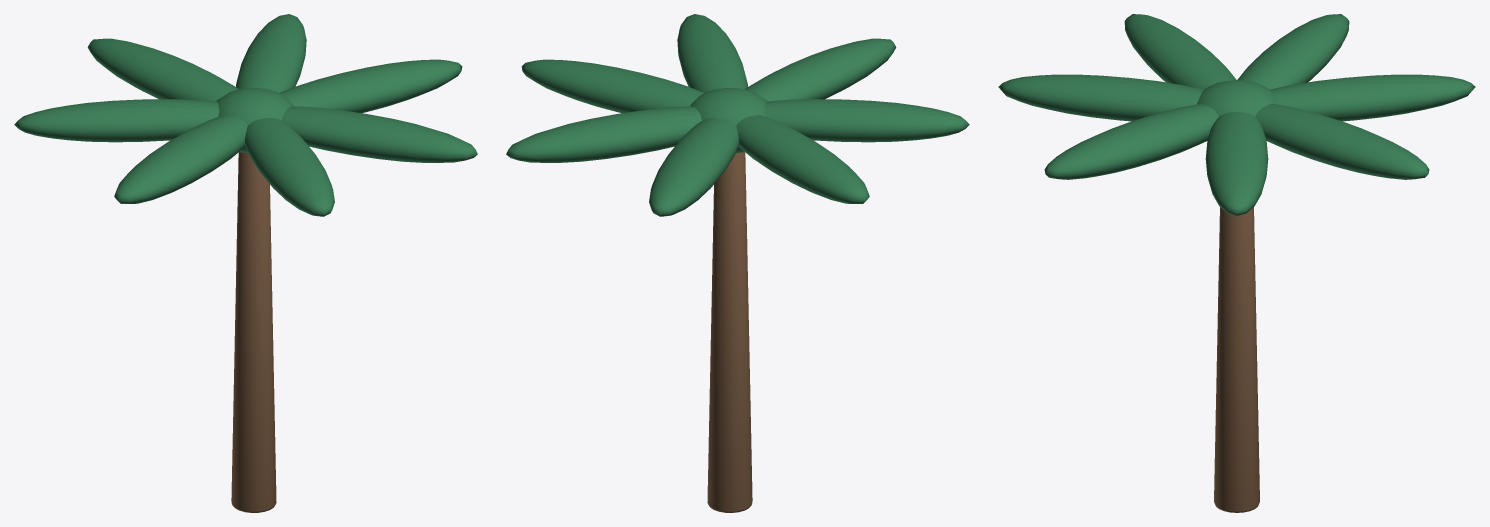
File: palm.glb
The picture shows the model from 3 angles, left to right: view 1: azimuth 30°, elevation 25°; view 2: azimuth 150°, elevation 25°; view 3: azimuth 270°, elevation 25°; orthographic projection.
Parts seen in each view (by area): view 1: Geometry_Leaf, Geometry_Wood; view 2: Geometry_Leaf, Geometry_Wood; view 3: Geometry_Leaf, Geometry_Wood.
Part boxes in pixels (x1,y1,x2,y2): Geometry_Leaf: (14, 14, 477, 216); Geometry_Wood: (231, 152, 276, 512); Geometry_Leaf: (506, 14, 969, 216); Geometry_Wood: (707, 152, 752, 512); Geometry_Leaf: (998, 14, 1475, 215); Geometry_Wood: (1214, 207, 1259, 512).
Bounding box in the file's own units: 3.42 × 3.39 × 3.51.
